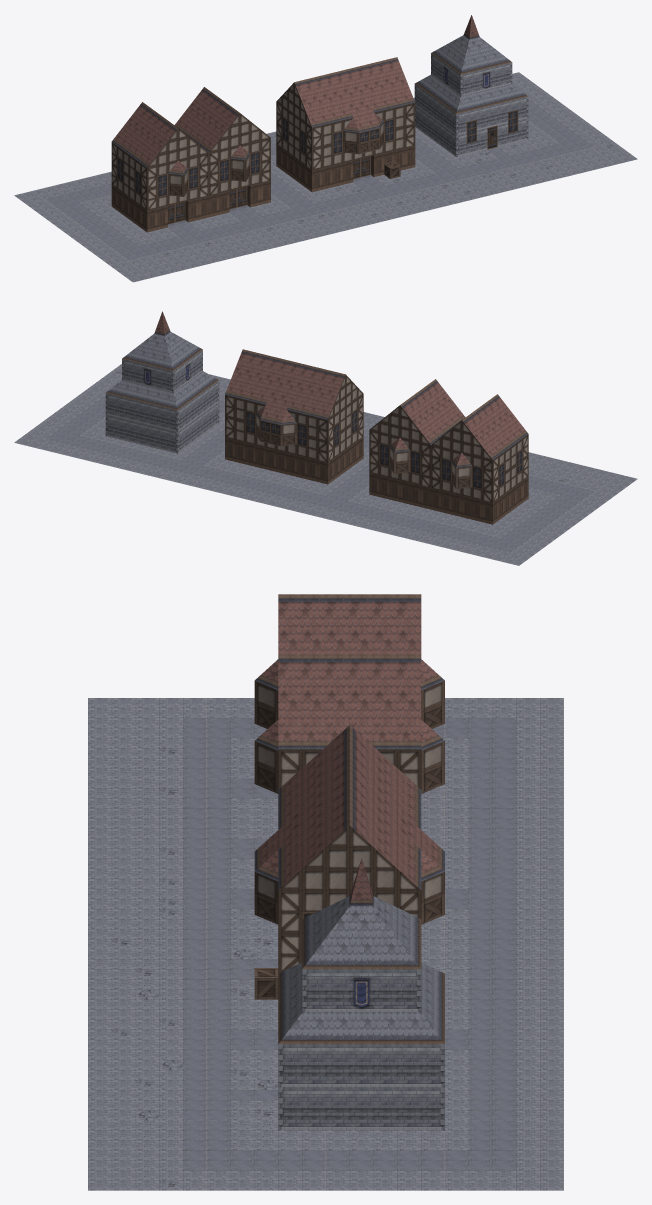
The model's file is village-1.glb.
3 views of the same model, one above another, from view 1: azimuth 30°, elevation 25°; view 2: azimuth 150°, elevation 25°; view 3: azimuth 270°, elevation 25° (orthographic). The views are drawn at different scales.
Parts seen in each view (by area): view 1: EntityTrimesh.World, EntityTrimesh.HomeLarge, EntityTrimesh.Home, EntityTrimesh.Business; view 2: EntityTrimesh.World, EntityTrimesh.HomeLarge, EntityTrimesh.Home, EntityTrimesh.Business; view 3: EntityTrimesh.World, EntityTrimesh.Business, EntityTrimesh.HomeLarge, EntityTrimesh.Home.
Part boxes in pixels (bbox=[...]): EntityTrimesh.World: bbox=[14, 72, 637, 282]; EntityTrimesh.HomeLarge: bbox=[111, 87, 270, 232]; EntityTrimesh.Home: bbox=[276, 57, 415, 192]; EntityTrimesh.Business: bbox=[414, 15, 528, 156]; EntityTrimesh.World: bbox=[14, 364, 637, 565]; EntityTrimesh.HomeLarge: bbox=[369, 379, 528, 524]; EntityTrimesh.Home: bbox=[225, 349, 363, 484]; EntityTrimesh.Business: bbox=[105, 311, 219, 453]; EntityTrimesh.World: bbox=[88, 698, 563, 1190]; EntityTrimesh.Business: bbox=[278, 858, 444, 1130]; EntityTrimesh.HomeLarge: bbox=[254, 594, 444, 793]; EntityTrimesh.Home: bbox=[254, 725, 444, 973].
Bounding box in the file's own units: 49 × 11 × 20.
Materials: 1 (1 with a texture image).
